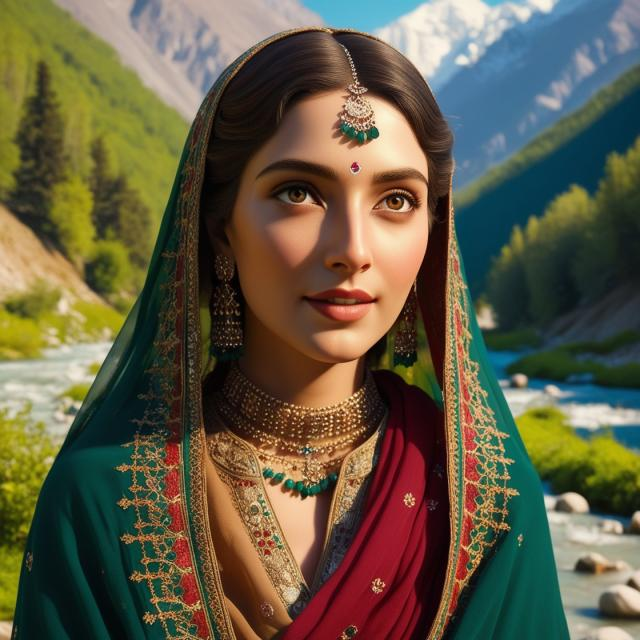front: (248, 152, 452, 348)
